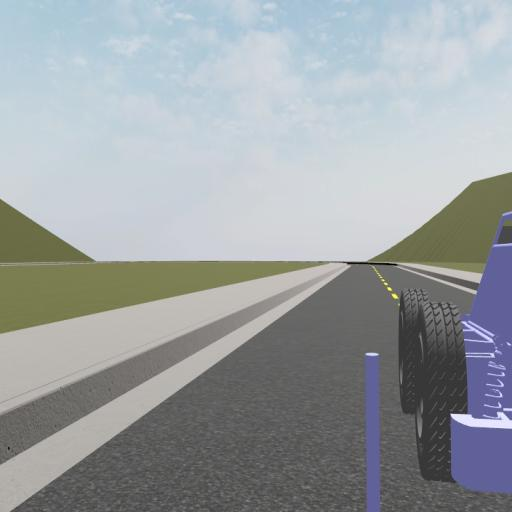ERP-42: (397, 208, 510, 494)
